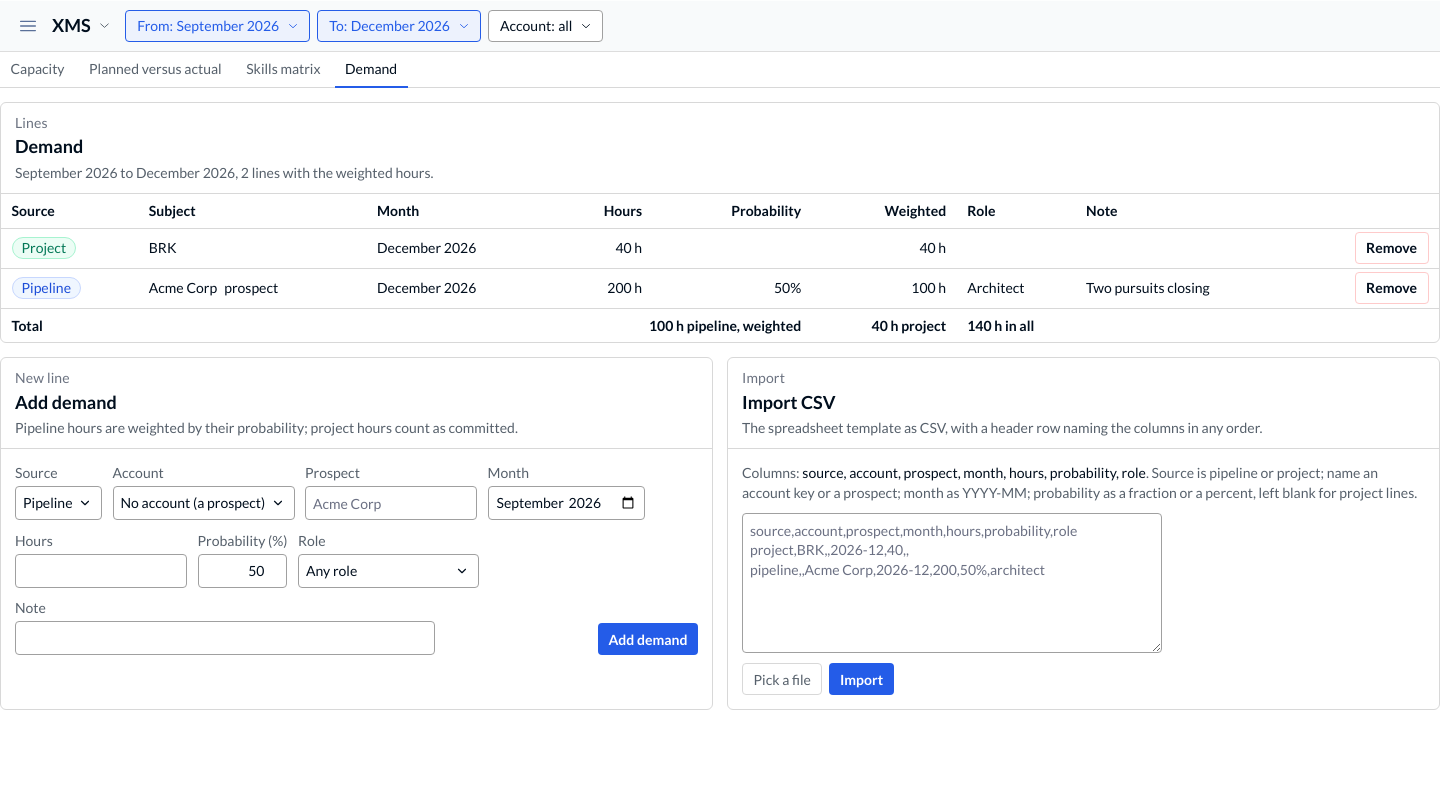
CapacityDemandPage › removes a line behind a confirm under capacity:manage and reloads the list
The image size is (1440, 810).
Click the button "Remove" in the row of "Acme Corp" at (1392, 288), box top-left (1355, 272), bottom-right (1428, 304)
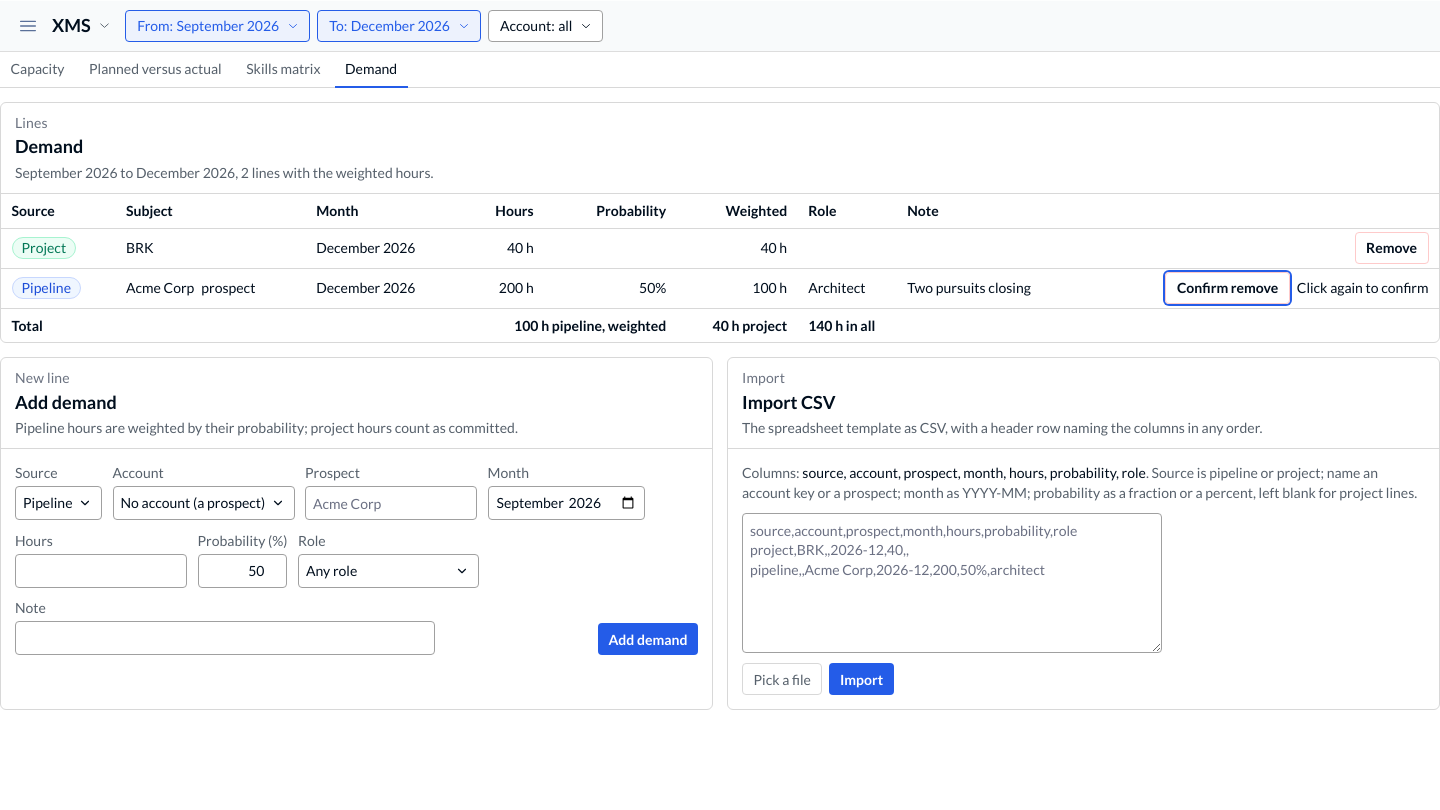
Click the button "Confirm remove" at (1228, 288), box top-left (1165, 272), bottom-right (1290, 304)
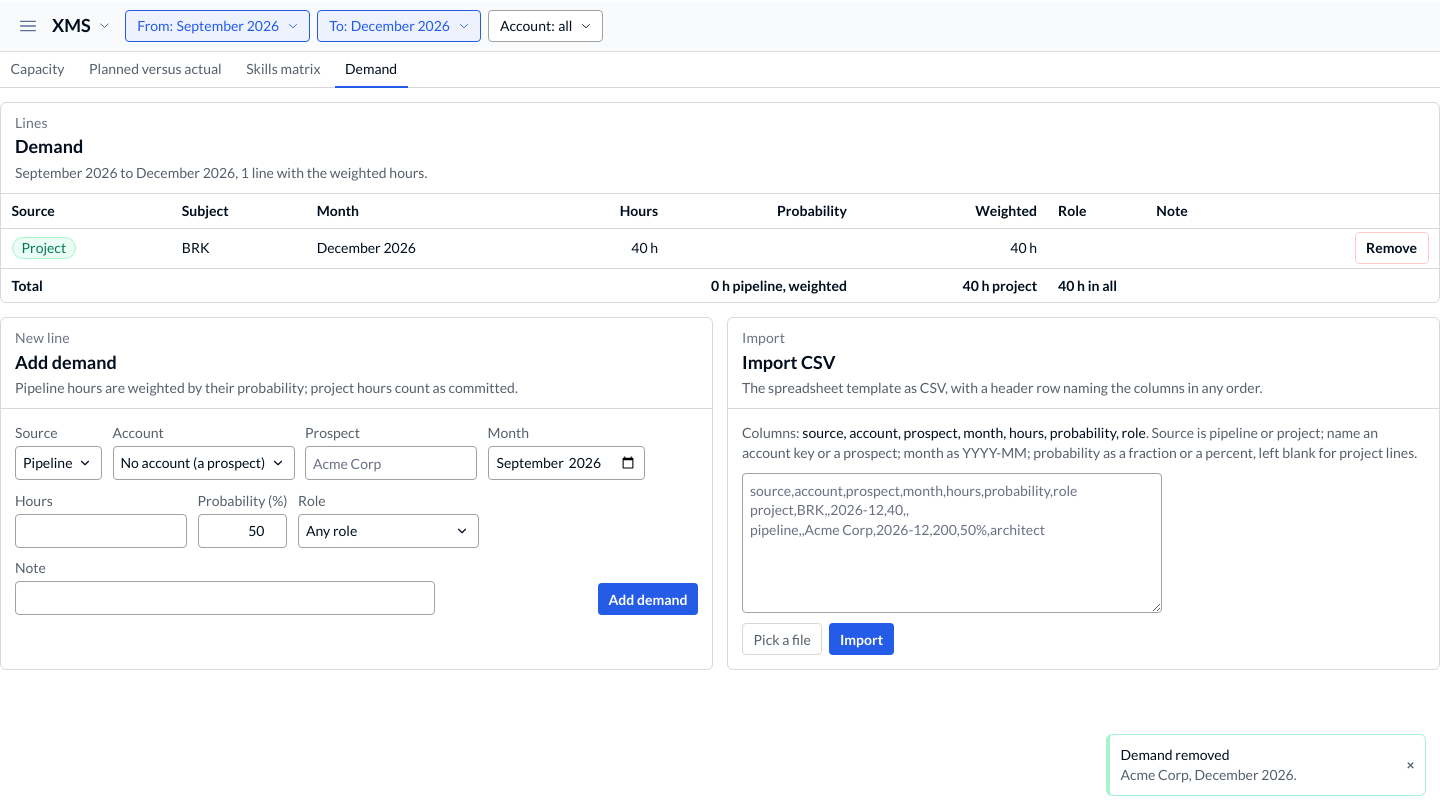
Check: the text "Demand removed" is shown, box top-left (1120, 746), bottom-right (1230, 763)
Check: the text "Acme Corp, December 2026." is shown, box top-left (1120, 765), bottom-right (1297, 784)
